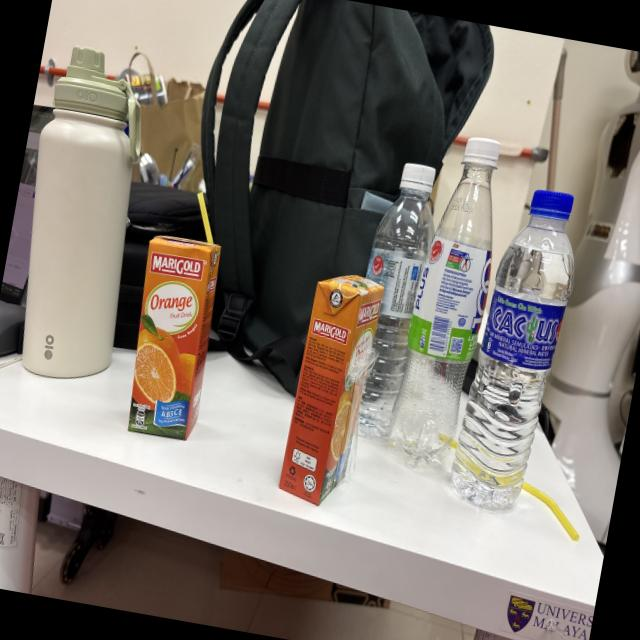drink_carton: (110, 180, 242, 451), (270, 258, 393, 516)
plastic_bottle: (436, 170, 594, 536), (378, 120, 512, 486), (332, 147, 452, 454)
